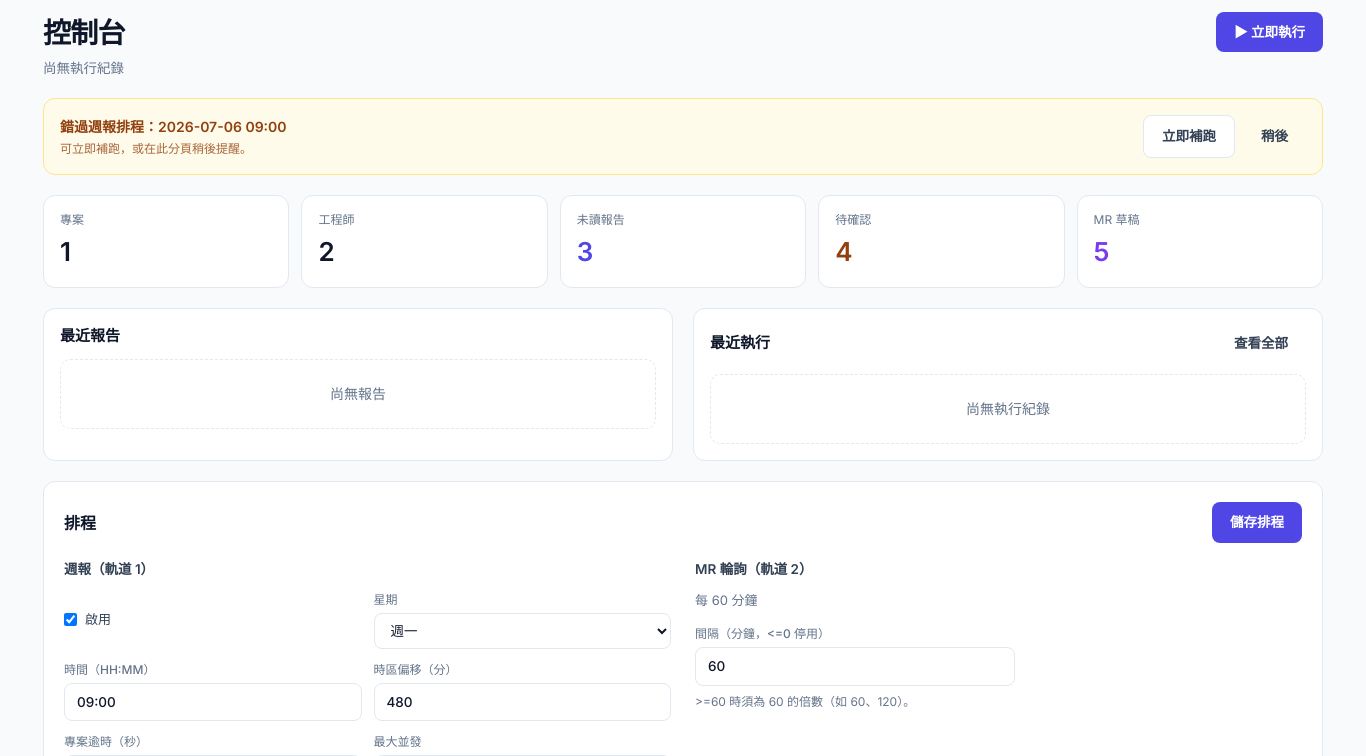
Test: DashboardPage catch-up banner › hides catch-up banner after dismissing it in this tab
Click the button "稍後".
click(1274, 136)  # box [1243,115,1306,158]
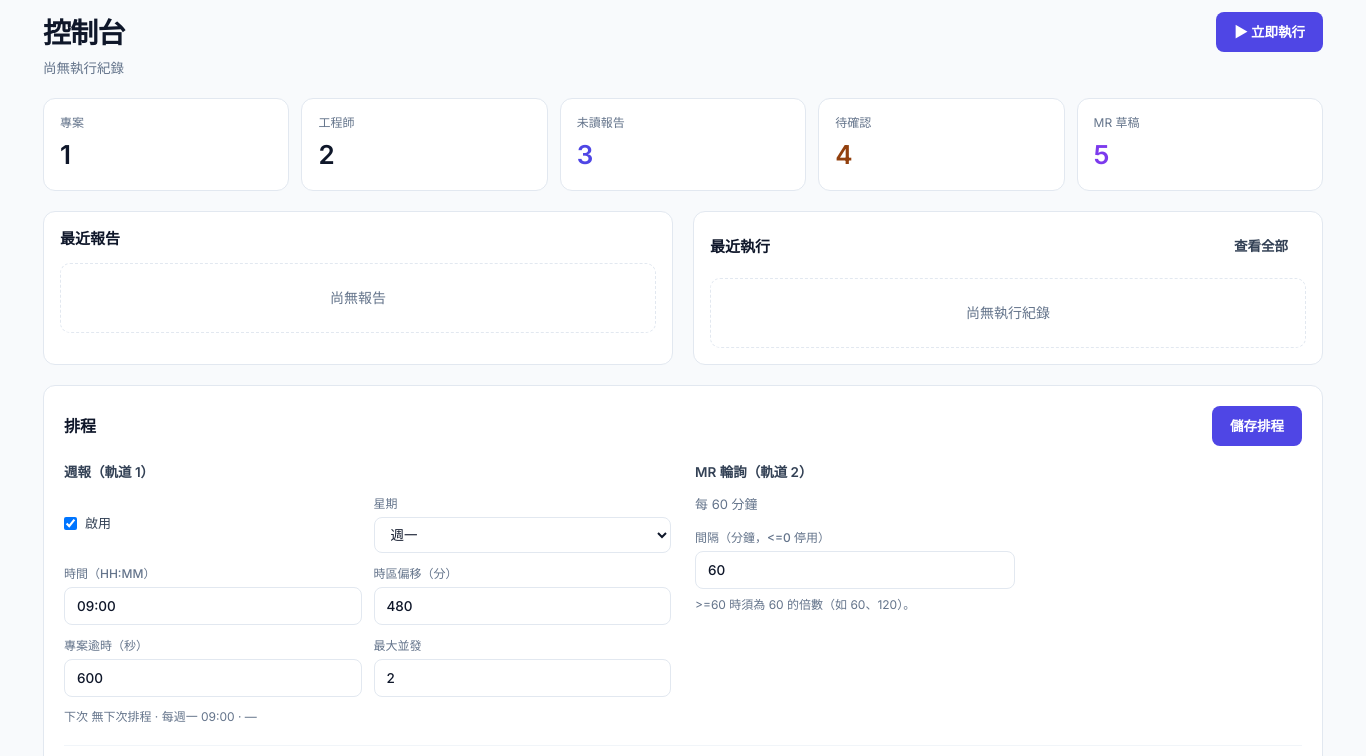
Expected: the text "錯過週報排程" is gone
